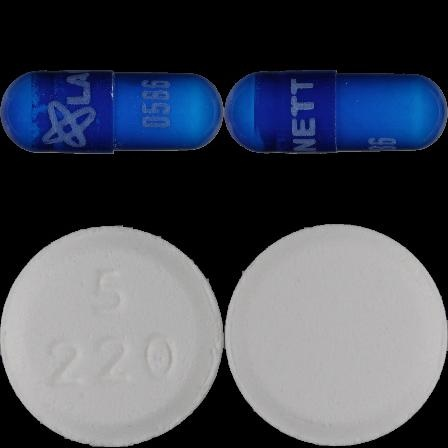33261-963: (0, 0, 224, 224)
